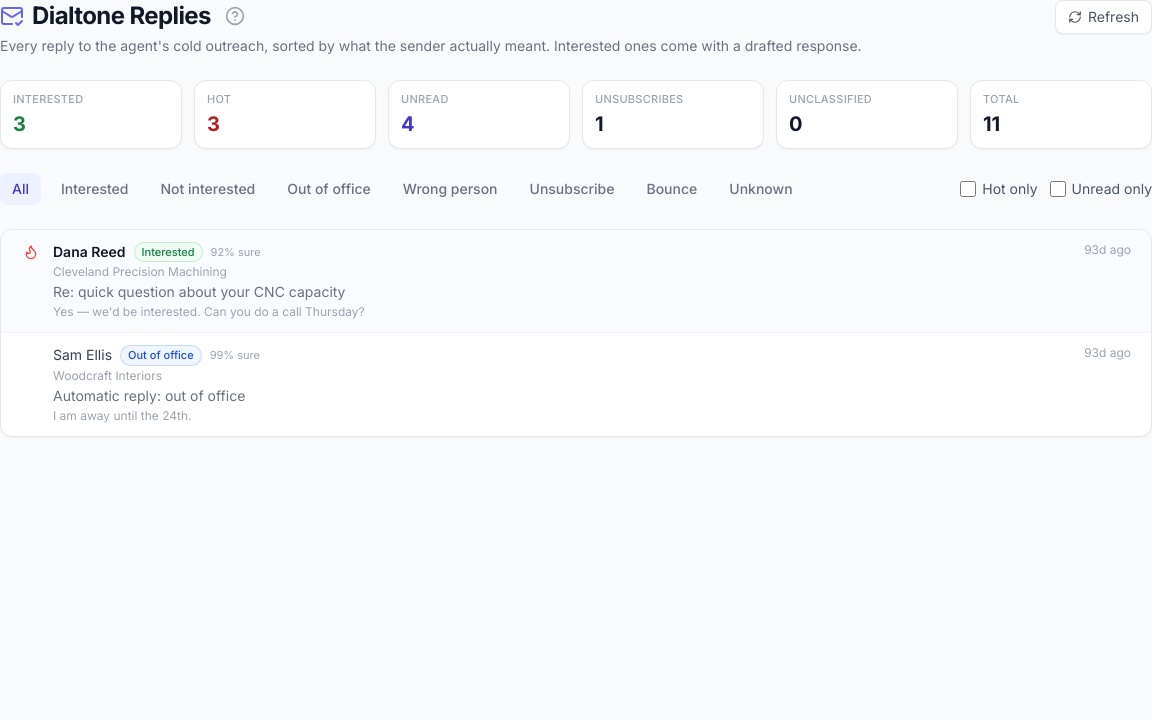
Scenario: DialtoneInbox page › offers no draft section for a reply that is not interested
This screenshot has width=1152, height=720.
Click the text "Sam Ellis" at (82, 355), box [53,345,112,365]
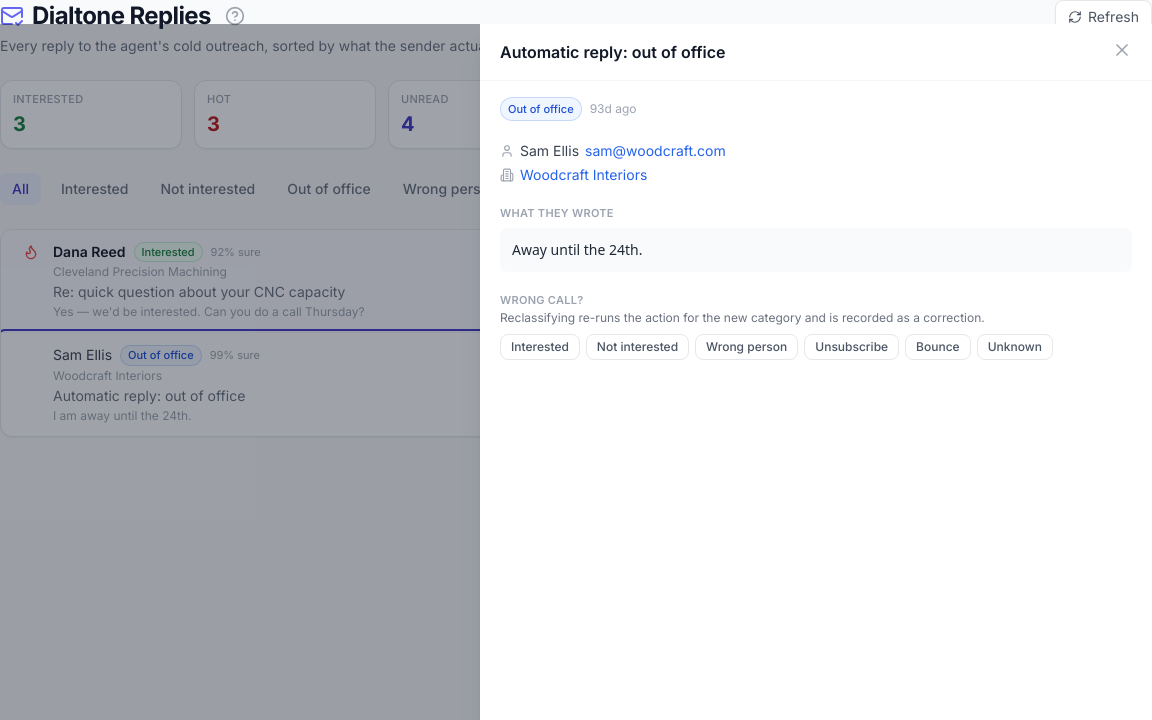
Result: the text "Away until the 24th." is shown at [500,228,1132,272]
